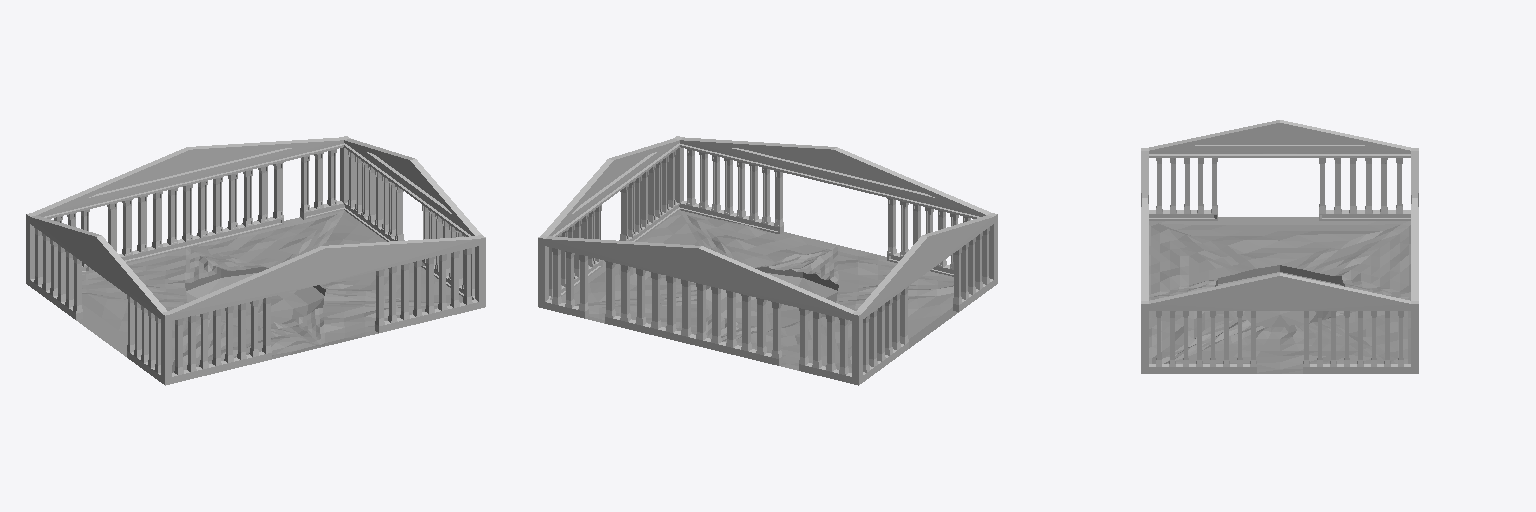
The model's file is GroveTri.obj.
The picture shows the model from 3 angles: view 1: azimuth 30°, elevation 25°; view 2: azimuth 150°, elevation 25°; view 3: azimuth 270°, elevation 25°; orthographic projection.
Visible parts, largest first — view 1: Cube.002_Cube.003; view 2: Cube.002_Cube.003; view 3: Cube.002_Cube.003.
Part boxes in pixels (x1,y1,x2,y2): Cube.002_Cube.003: (26,136,485,385); Cube.002_Cube.003: (538,136,997,385); Cube.002_Cube.003: (1141,120,1418,373).
Size of the model in its own units: 48 by 16.65 by 36.